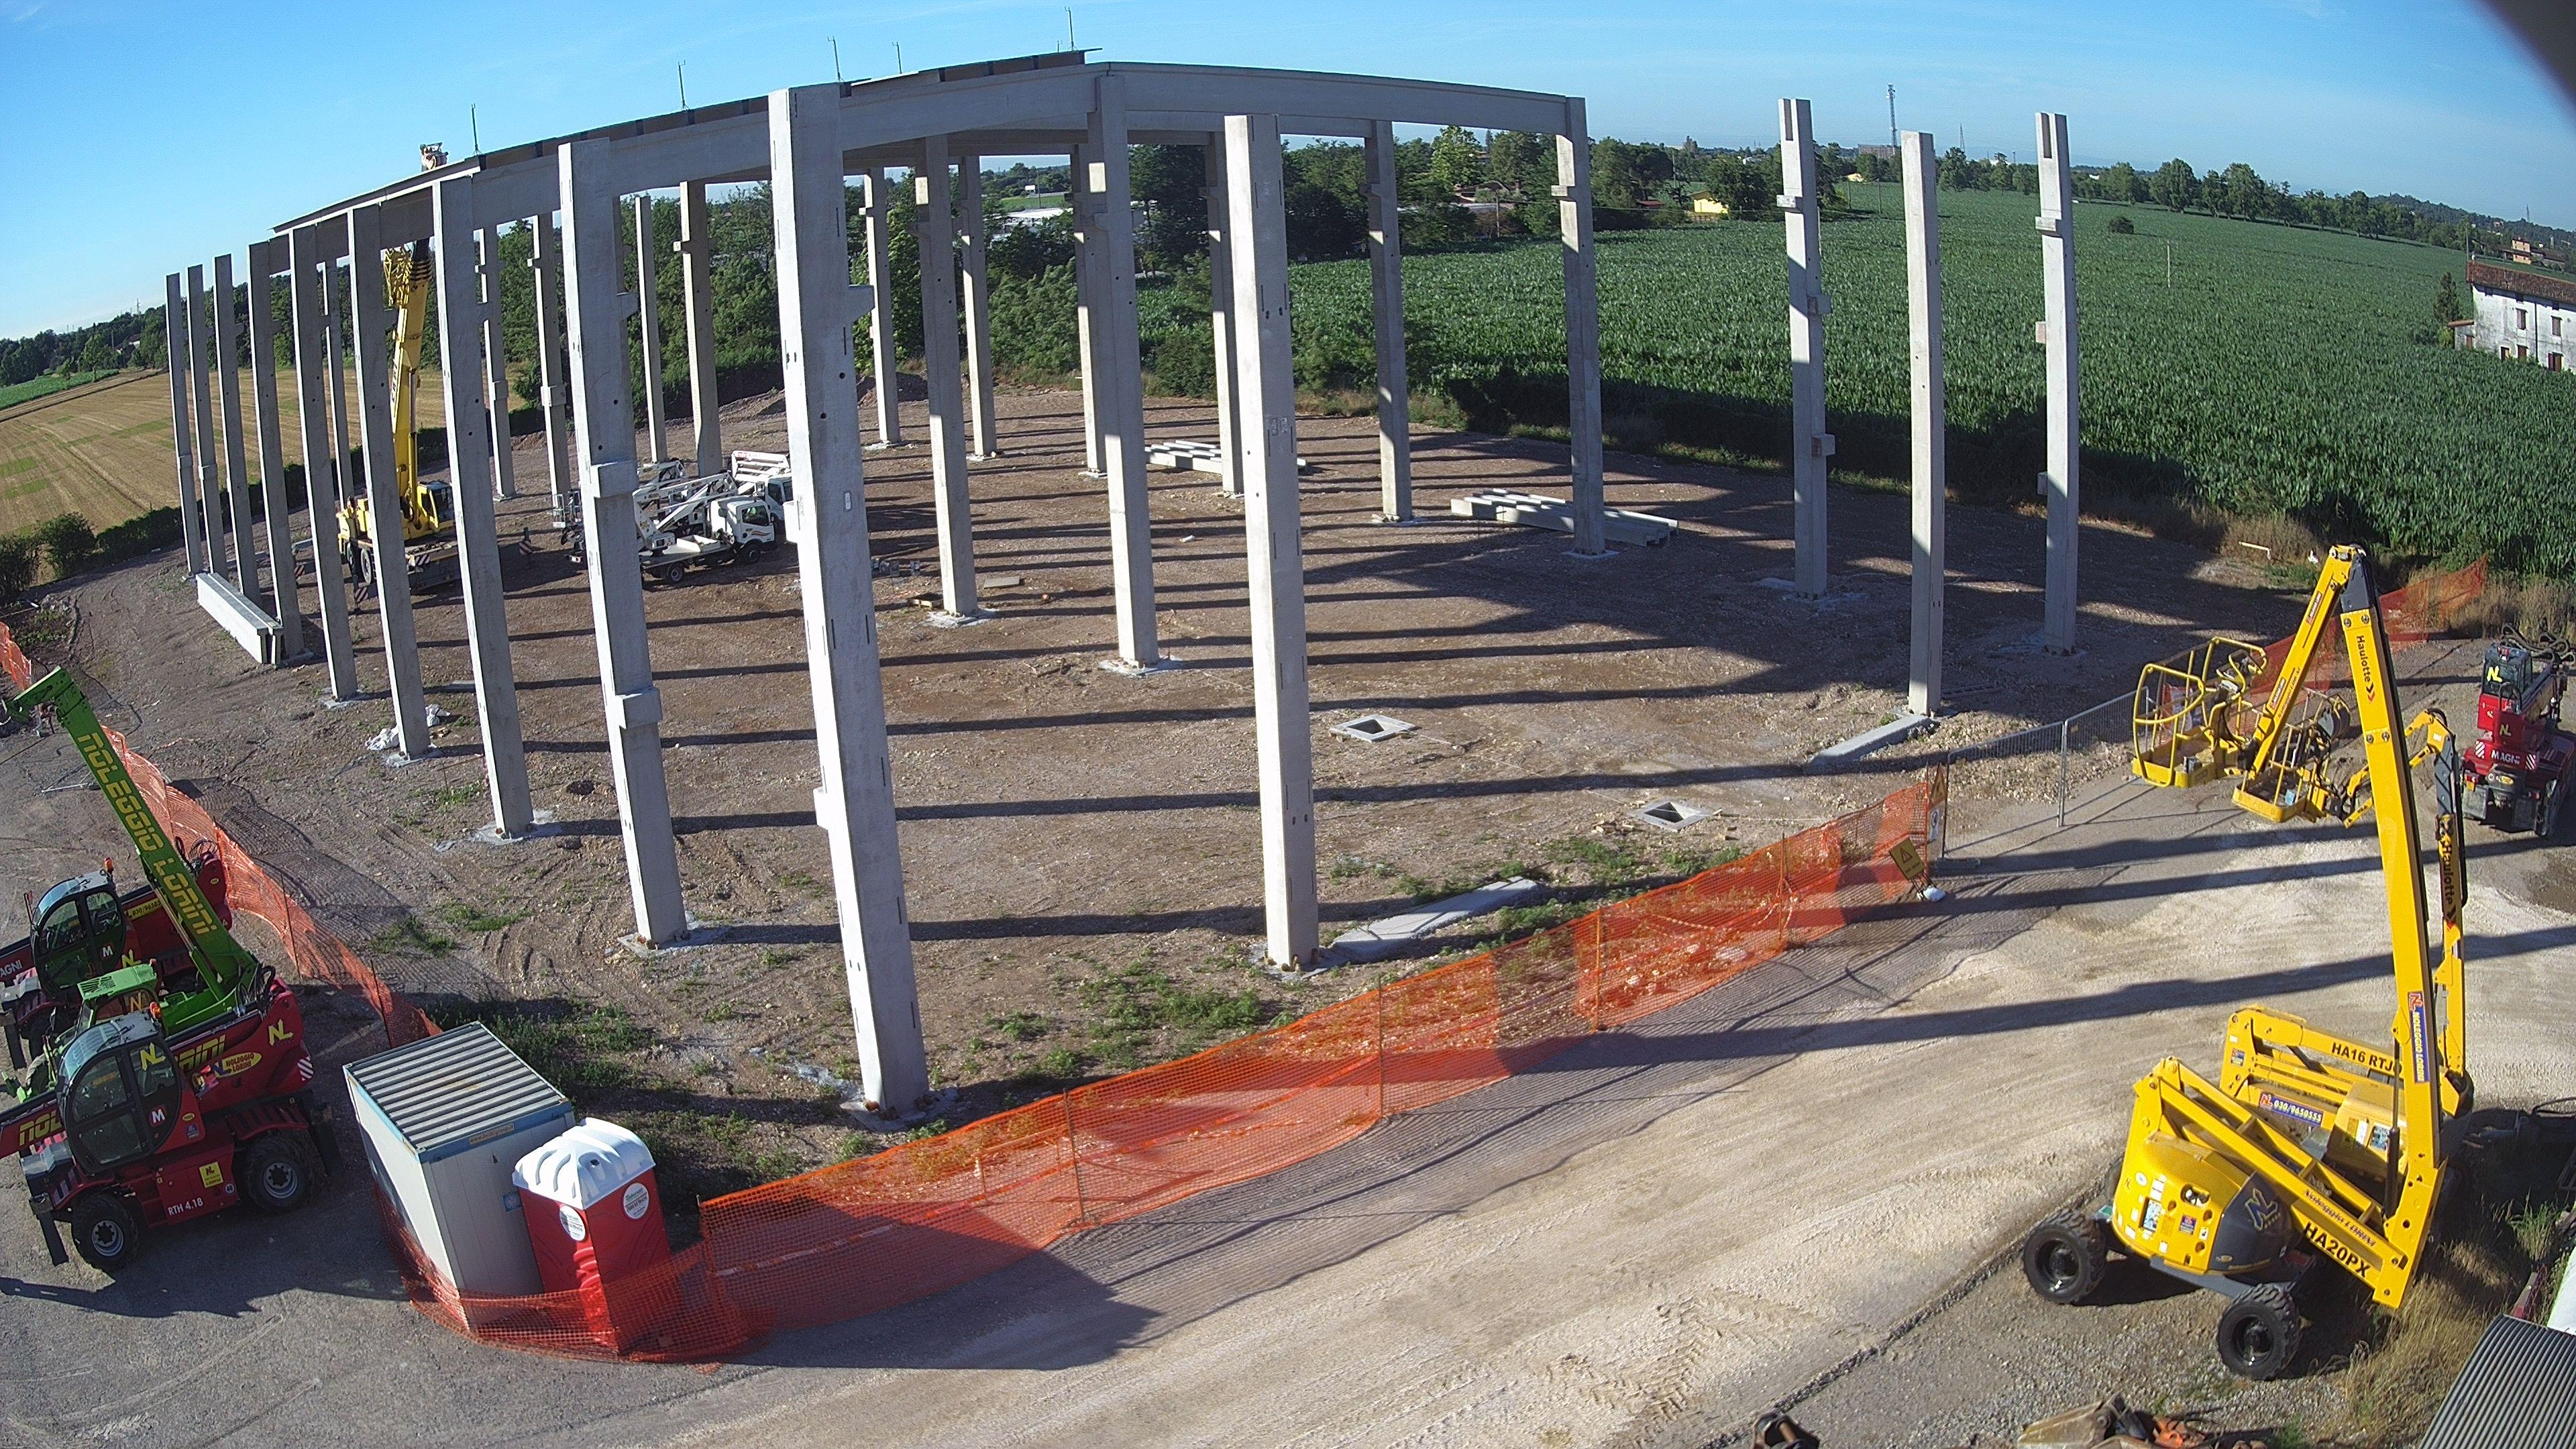Aerial platforms: (2017, 543, 2447, 1376), (0, 662, 262, 1097), (2219, 1007, 2408, 1214), (2403, 708, 2475, 1120), (2233, 686, 2373, 830), (633, 471, 777, 584), (720, 449, 794, 534), (552, 488, 589, 564), (635, 456, 692, 492)
excavator: (0, 966, 350, 1272), (0, 856, 209, 1070), (380, 237, 464, 594), (2461, 644, 2576, 837), (173, 835, 234, 931), (334, 488, 377, 584), (418, 142, 449, 173)
